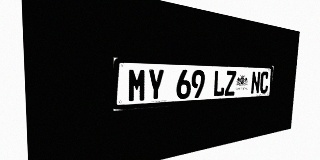6: (176, 69, 192, 99)
9: (191, 70, 205, 98)
C: (259, 71, 269, 94)
L: (213, 70, 225, 97)
M: (127, 68, 147, 103)
N: (250, 71, 261, 94)
Y: (147, 69, 164, 101)
Z: (224, 71, 236, 96)
